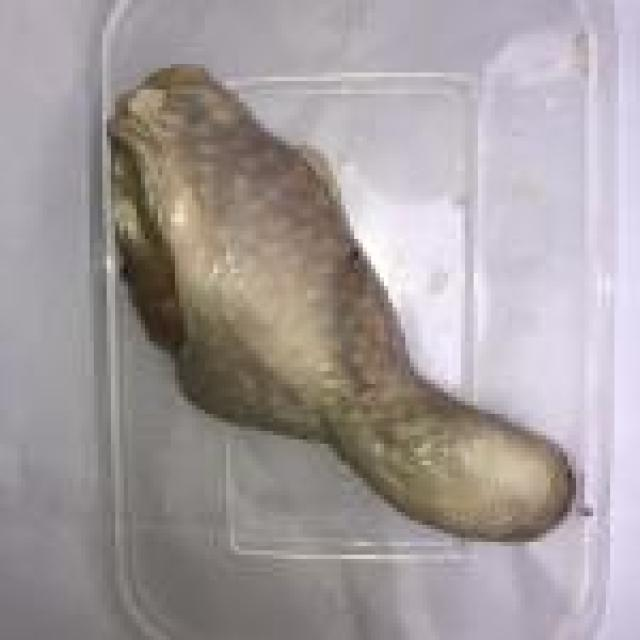leg: (102, 47, 580, 544)
